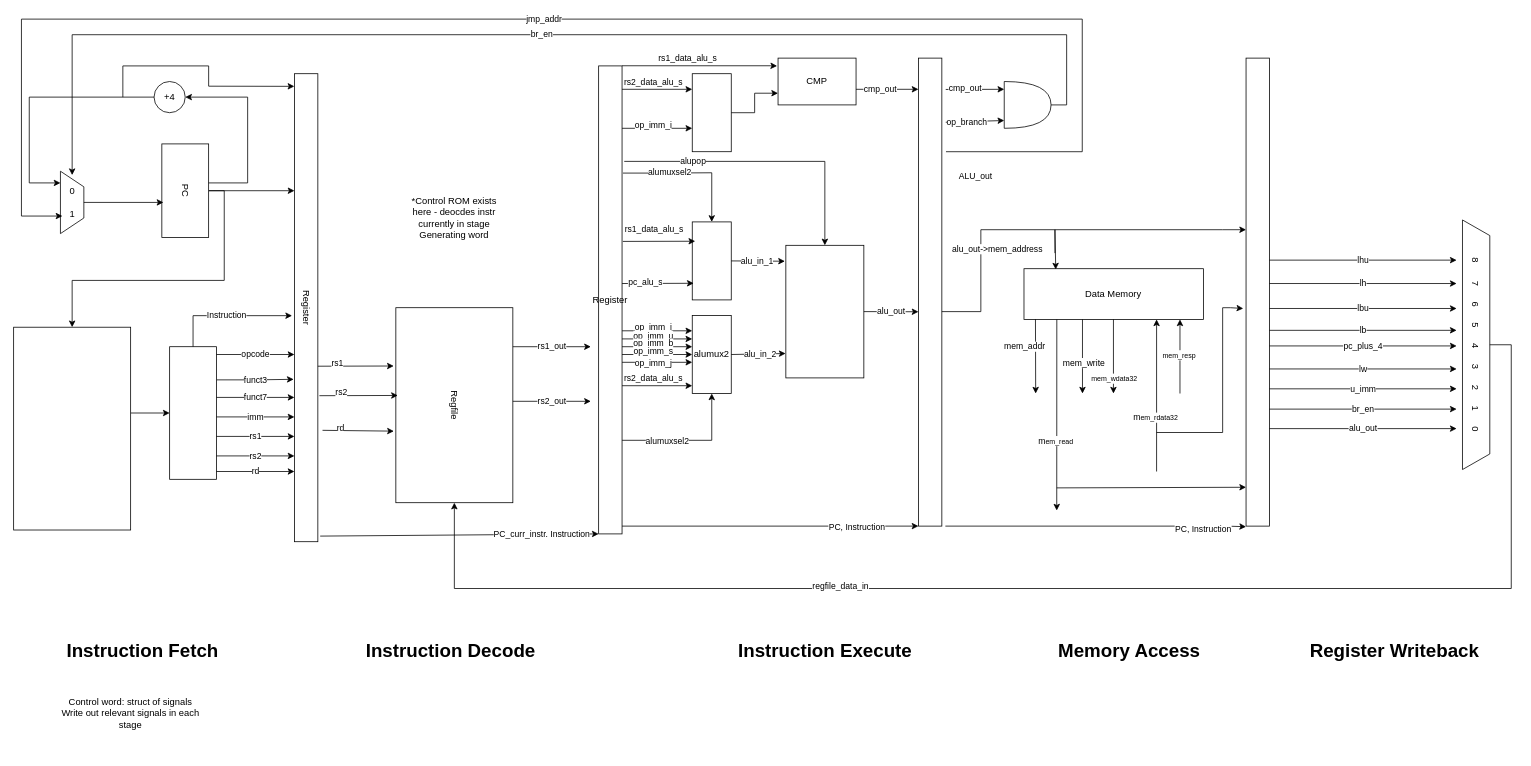
Image size: 1531x766. Some labels were removed from this diagram. Each missing label, with the centre of its shape:
"ALU" goes at point 824,311.
"alumux1" goes at point 711,260.
"Cache entry" goes at point 192,412.
"CMPMUX" goes at point 711,112.
"I-cache (CP1: Magic mem)" goes at point 72,428.
